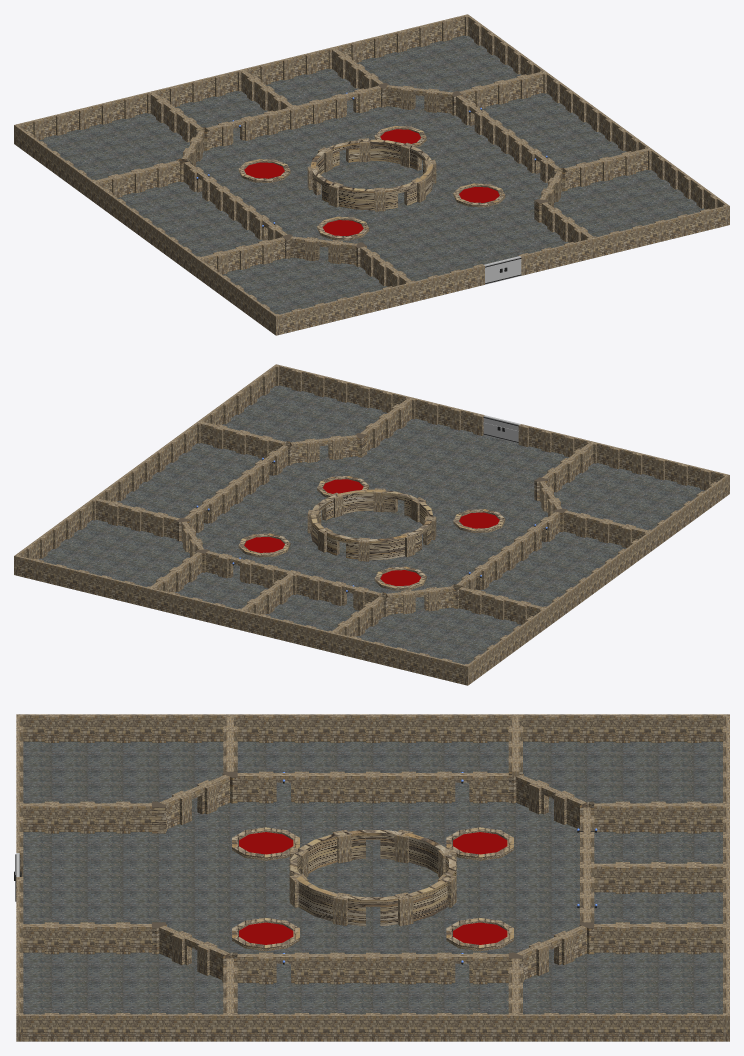
The model's file is bottomFloor.fbx.
3 renders of one model, top to bottom at view 1: azimuth 30°, elevation 25°; view 2: azimuth 150°, elevation 25°; view 3: azimuth 270°, elevation 25°, orthographic. The views are drawn at different scales.
Visible parts, largest first — view 1: Extrude_NURBS_1; view 2: Extrude_NURBS_1; view 3: Extrude_NURBS_1.
Boxes of the visible parts, x1,y1,x2,y2 form: Extrude_NURBS_1: (14,14,729,335); Extrude_NURBS_1: (14,364,729,685); Extrude_NURBS_1: (14,714,729,1041).
Size of the model in its own units: 200 by 8 by 201.
Materials: 7 (2 with a texture image).
